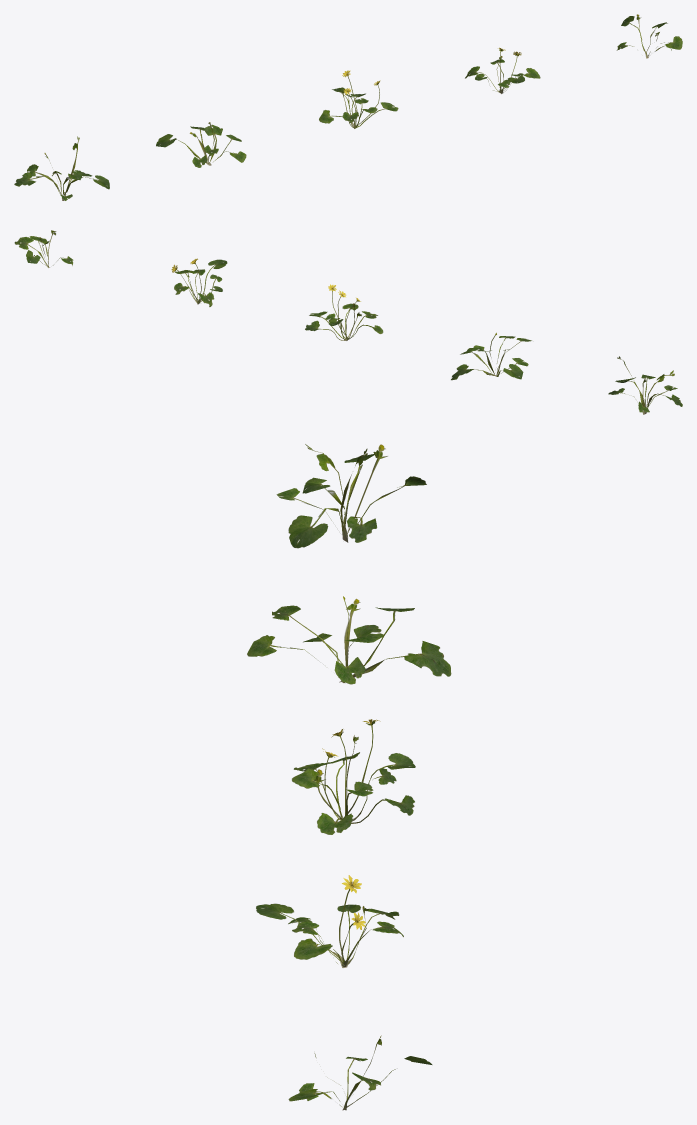
The model's file is celandine_01_lod1.glb.
The picture shows the model from 3 angles, top to bottom: view 1: azimuth 30°, elevation 25°; view 2: azimuth 150°, elevation 25°; view 3: azimuth 270°, elevation 25°; orthographic projection. The views are drawn at different scales.
Parts seen in each view (by area): view 1: celandine_01_c_LOD0, celandine_01_b_LOD0, celandine_01_a_LOD0, celandine_01_d_LOD0, celandine_01_e_LOD0; view 2: celandine_01_c_LOD0, celandine_01_b_LOD0, celandine_01_d_LOD0, celandine_01_a_LOD0, celandine_01_e_LOD0; view 3: celandine_01_b_LOD0, celandine_01_a_LOD0, celandine_01_c_LOD0, celandine_01_d_LOD0, celandine_01_e_LOD0.
Boxes of the visible parts, x1,y1,x2,y2 form: celandine_01_c_LOD0: [319, 70, 398, 128]; celandine_01_b_LOD0: [156, 122, 246, 167]; celandine_01_a_LOD0: [14, 136, 109, 200]; celandine_01_d_LOD0: [465, 47, 540, 93]; celandine_01_e_LOD0: [616, 14, 682, 58]; celandine_01_c_LOD0: [305, 284, 383, 340]; celandine_01_b_LOD0: [451, 332, 531, 380]; celandine_01_d_LOD0: [171, 258, 227, 306]; celandine_01_a_LOD0: [608, 356, 682, 414]; celandine_01_e_LOD0: [14, 230, 73, 267]; celandine_01_b_LOD0: [247, 596, 451, 684]; celandine_01_a_LOD0: [276, 444, 426, 548]; celandine_01_c_LOD0: [292, 719, 415, 834]; celandine_01_d_LOD0: [256, 875, 403, 967]; celandine_01_e_LOD0: [288, 1035, 432, 1110].
Size of the model in its own units: 2.24 by 0.185 by 0.3051.
Materials: 1 (1 with a texture image).
